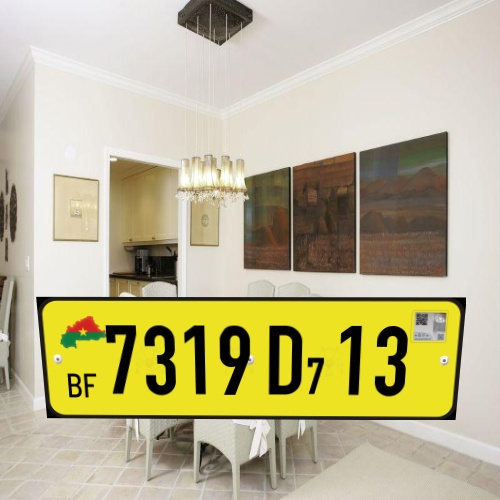plate: (24, 282, 472, 437)
